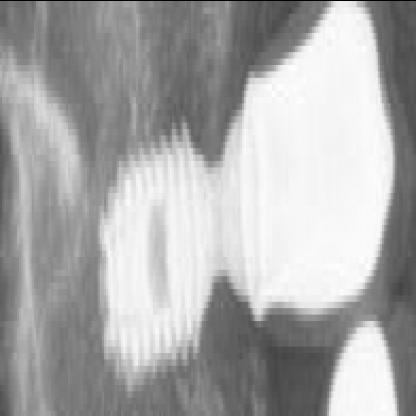Bicon: (89, 110, 205, 402)
